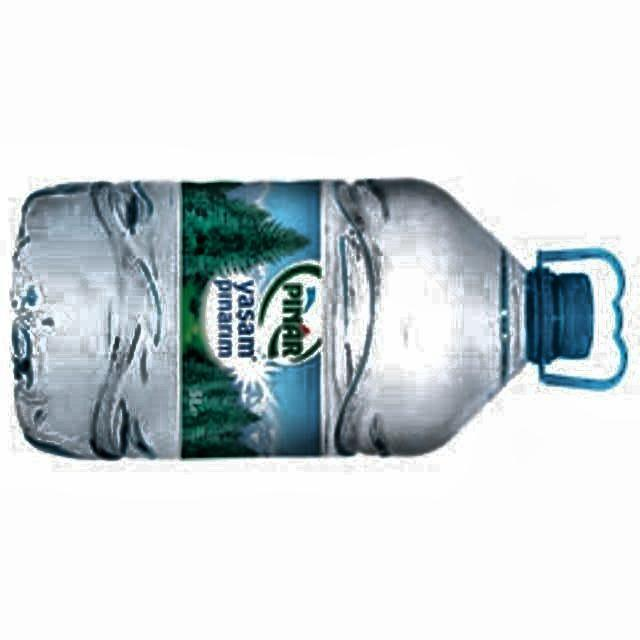plastic: (12, 178, 628, 458)
